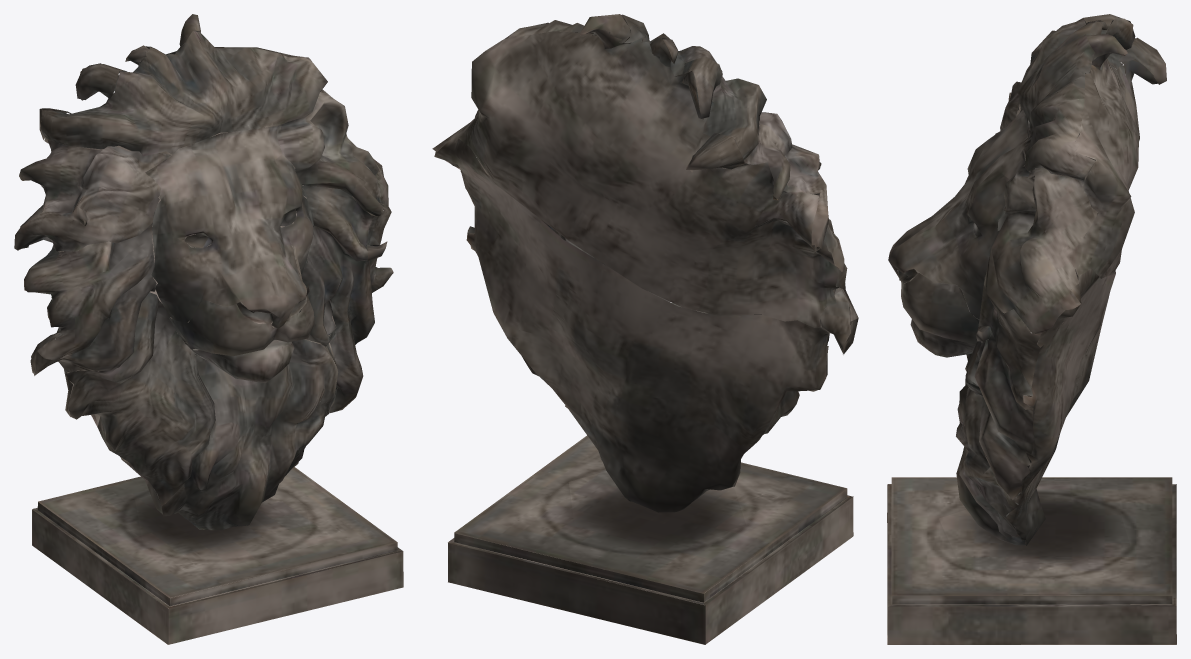
Rendered from lion.glb.
3 renders of one model, left to right at view 1: azimuth 30°, elevation 25°; view 2: azimuth 150°, elevation 25°; view 3: azimuth 270°, elevation 25°, orthographic. The views are drawn at different scales.
Parts seen in each view (by area): view 1: lion_head; view 2: lion_head; view 3: lion_head.
Part boxes in pixels (x1,y1,x2,y2): lion_head: (14,14,403,644); lion_head: (432,14,858,644); lion_head: (887,14,1176,644).
Size of the model in its own units: 0.3523 by 0.48 by 0.2275.
Materials: 1 (1 with a texture image).
